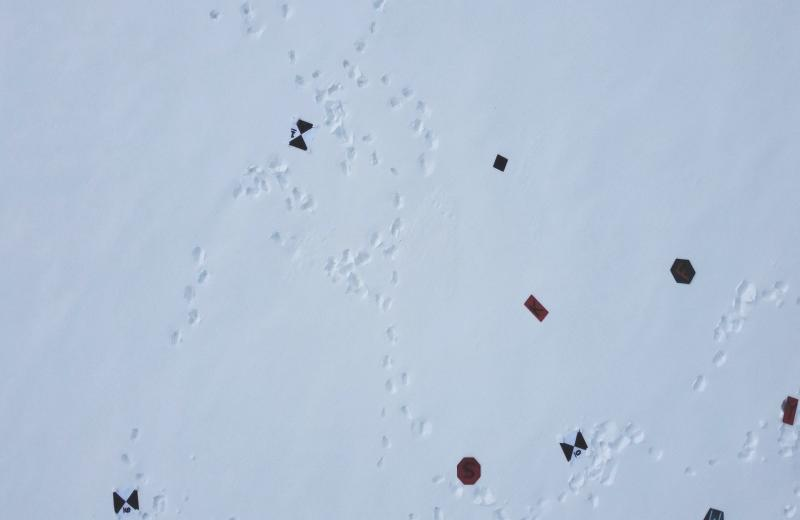Hexagon: (668, 255, 698, 290)
Octagon: (454, 454, 483, 488)
Rectangle: (522, 291, 550, 325), (771, 394, 800, 426)
Square: (490, 152, 512, 176)
